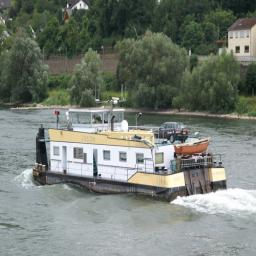tugboat: (32, 83, 230, 206)
